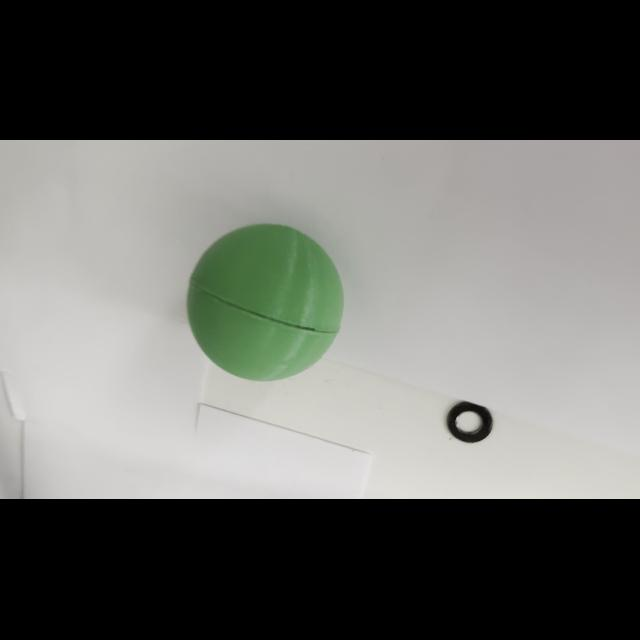objects: (182, 217, 348, 385)
